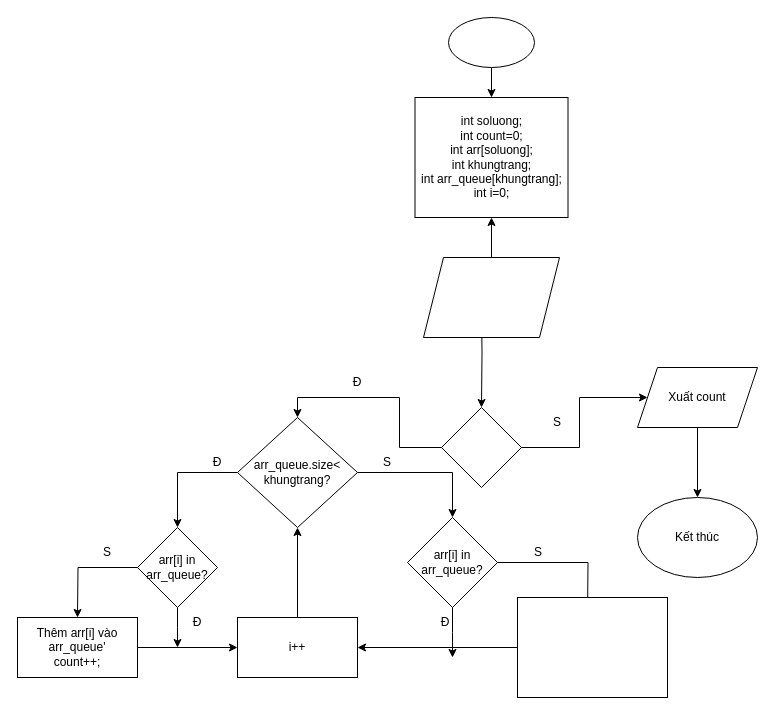
This 775x715 diagram has some shape labels left out. Each missing label, with the centre of its shape:
"Bắt Đầu" goes at point (491, 42).
"i<n?" goes at point (481, 447).
"Nhập soluong; Nhập arr[soluong]; Nhập khungtrang;" goes at point (491, 297).
"Thêm arr[i] vào cuối arr_queue; Xóa phần tử đầu tiên của arr_queue; count++;" goes at point (592, 647).
